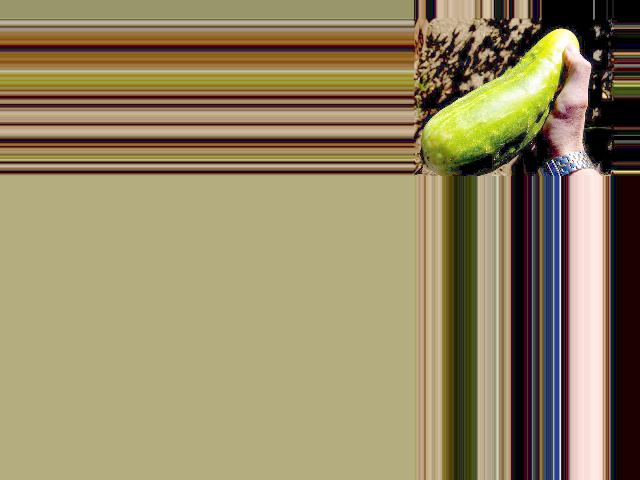cucumber: (419, 29, 579, 177)
